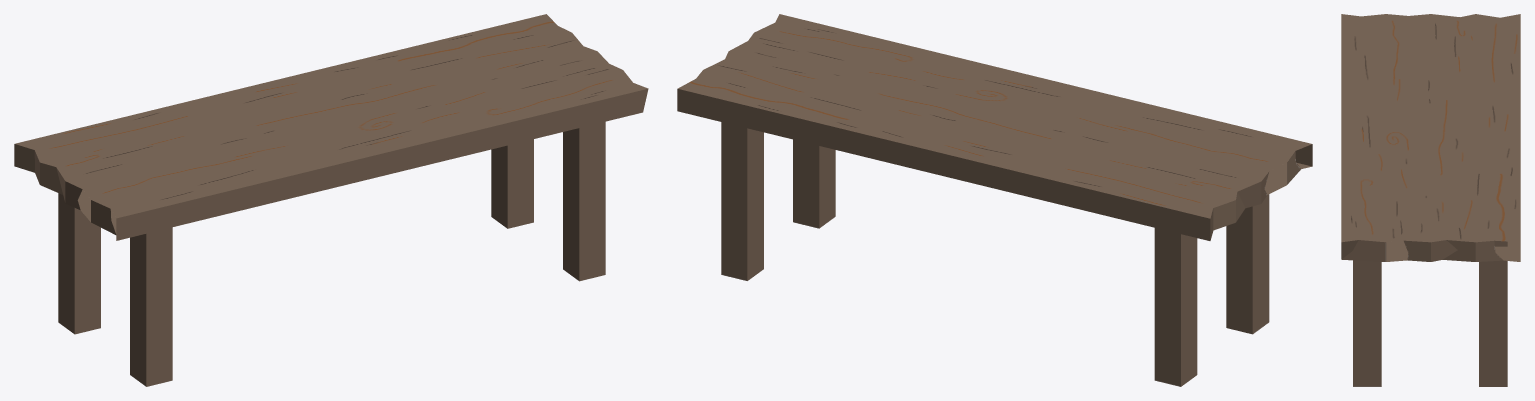
File: mesa .fbx
3 renders of one model, left to right at view 1: azimuth 30°, elevation 25°; view 2: azimuth 150°, elevation 25°; view 3: azimuth 270°, elevation 25°, orthographic. The views are drawn at different scales.
Parts seen in each view (by area): view 1: mesa_pintar; view 2: mesa_pintar; view 3: mesa_pintar.
Boxes of the visible parts, x1,y1,x2,y2 form: mesa_pintar: [14, 14, 648, 386]; mesa_pintar: [677, 14, 1312, 386]; mesa_pintar: [1341, 14, 1520, 386].
Size of the model in its own units: 2690 by 880 by 893.
2 materials, 2 textured.
